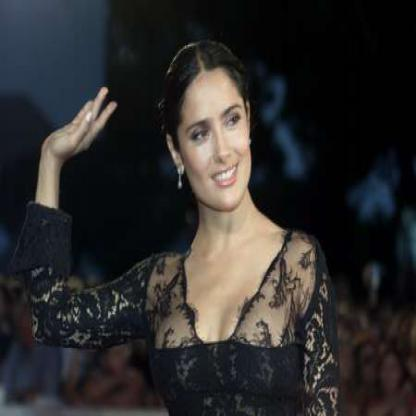face: (176, 45, 251, 217), (357, 344, 381, 389), (381, 352, 403, 396)
